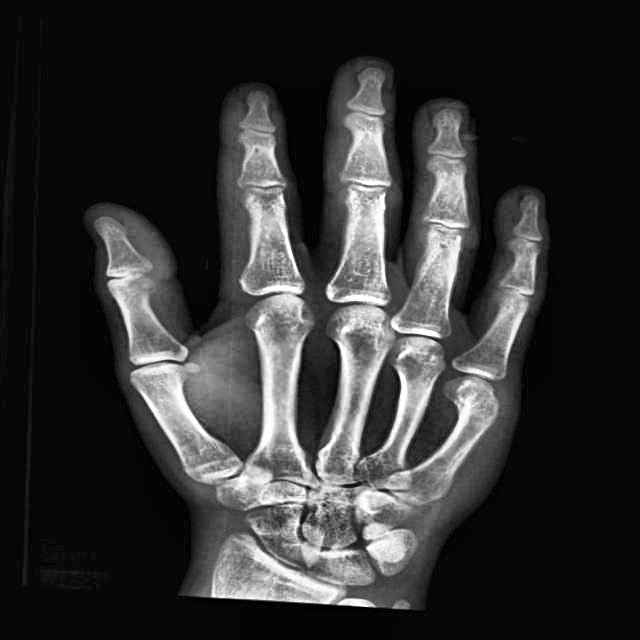Healthy: (115, 141, 548, 603)
